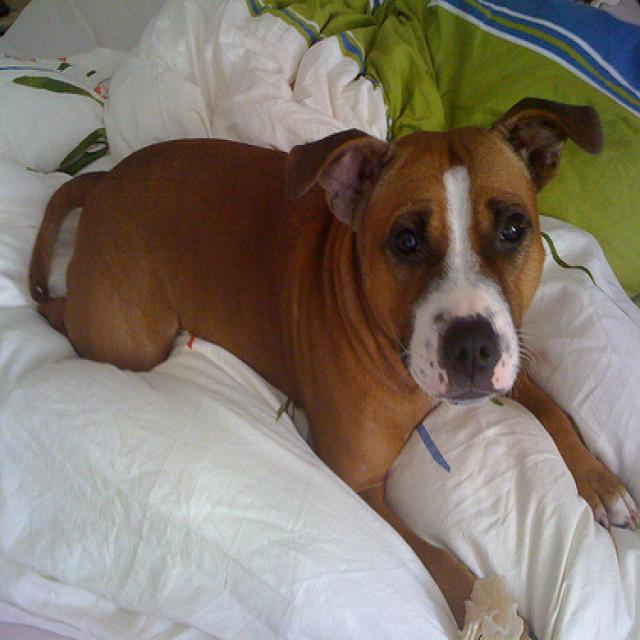dog-staffordshire_bull_terrier: (19, 85, 637, 637)
